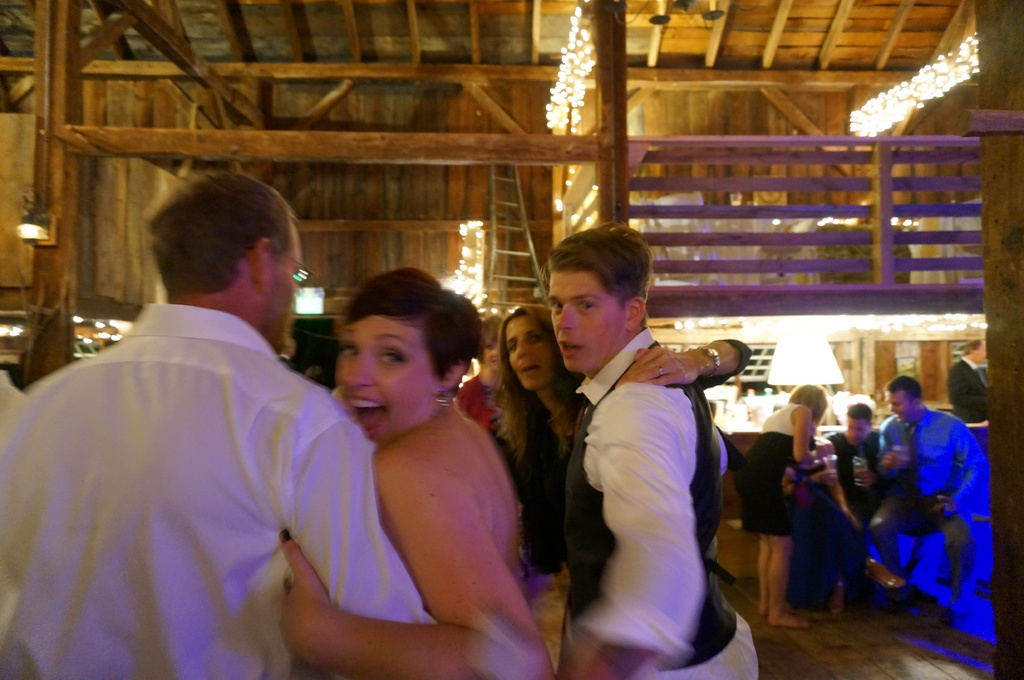Human-face: (337, 316, 433, 442), (555, 268, 621, 368), (509, 315, 552, 388), (888, 391, 910, 424), (847, 415, 867, 445)
